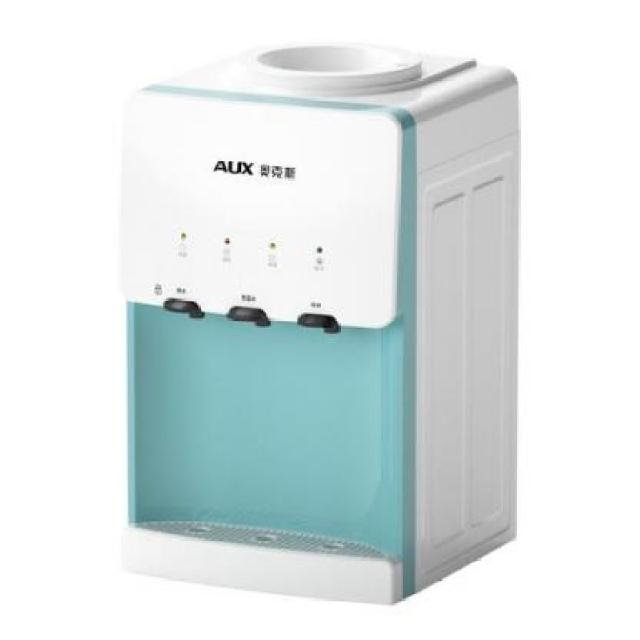cooler: (123, 39, 522, 606)
